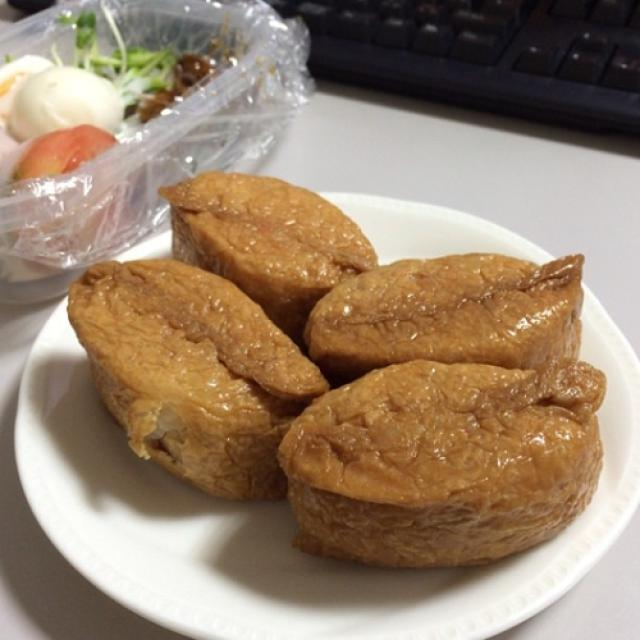寿司卷物: (37, 148, 620, 602)
